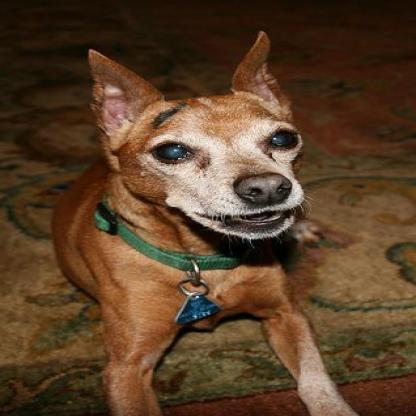miniature_pinscher: (34, 26, 358, 414)
